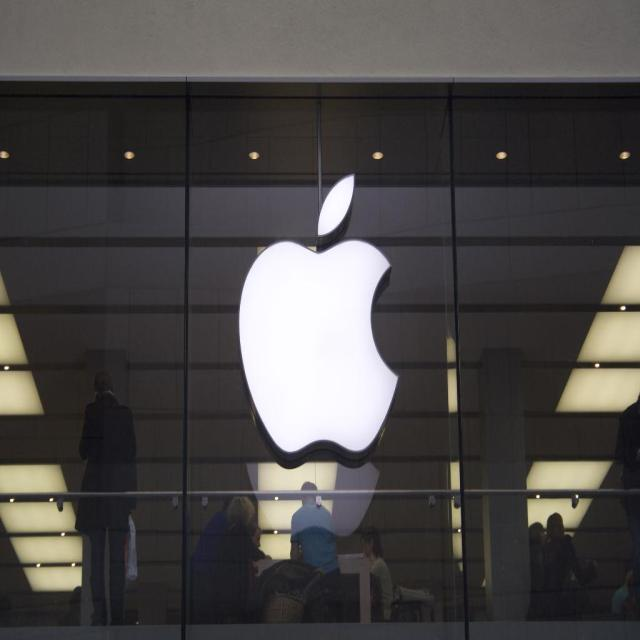Healty Apple: (226, 222, 400, 476)
